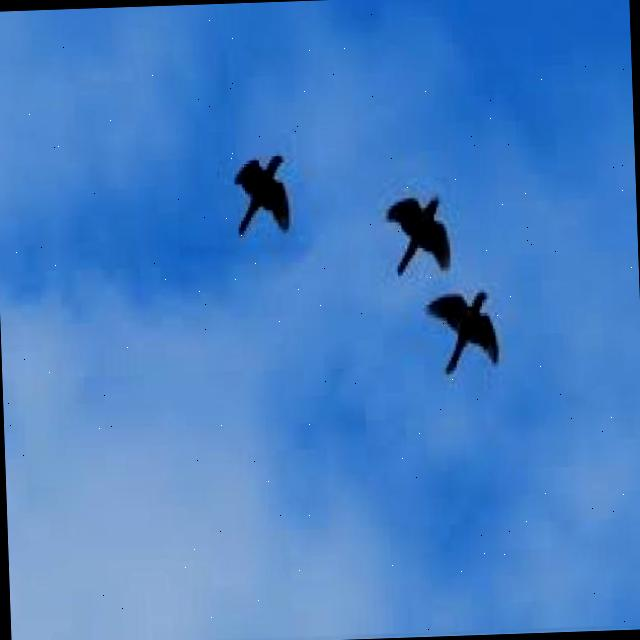Nuri Hitam: (409, 284, 517, 394), (217, 140, 314, 255), (372, 188, 466, 284)
